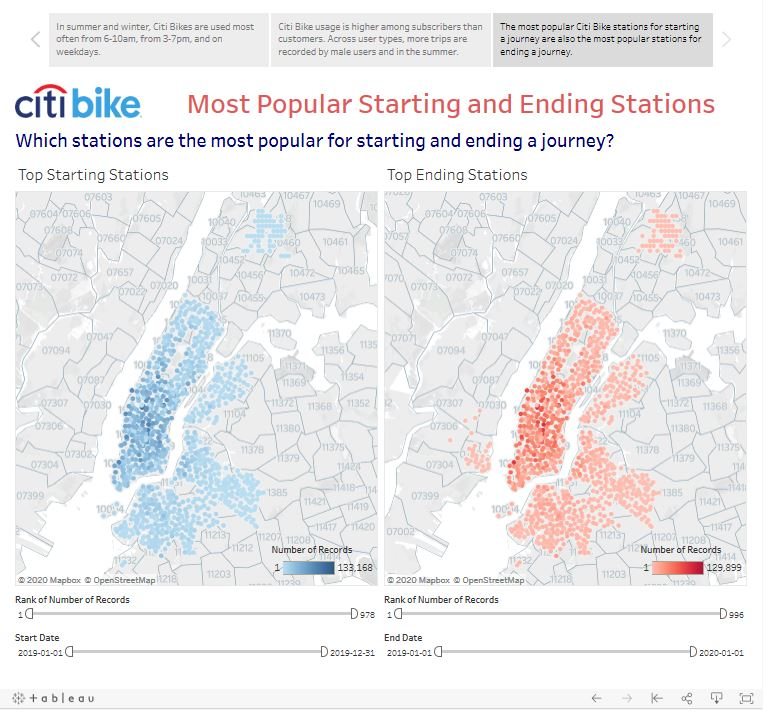

The page's visual inventory and layout, read from the dashboard file:
{"tool":"tableau","page":{"name":"Dashboard3_Stations","canvas":[1000,800],"ordinal":2},"visuals":[{"type":"image","param":"C:/Users/ivyfo/Dropbox/2019/Data Analytics Boot Camp 2019/DA Boot Camp - Homewor","box":[8,8,187,57]},{"type":"text","box":[195,8,797,57]},{"type":"text","box":[8,65,984,43]},{"type":"worksheet","title":"Top Starting Stations","mark":"Automatic","rows":["start station latitude"],"cols":["start station longitude"],"box":[8,108,492,577.5]},{"type":"worksheet","title":"Top Ending Stations","mark":"Automatic","rows":["end station latitude"],"cols":["end station longitude"],"box":[500,108,492,577.5]},{"type":"legend","title":"Top Starting Stations","param":"[federated.0dx83yj05c4yuc10r1rjr0399f2l].[sum:Number of Records:qk]","box":[354,624,140,59]},{"type":"legend","title":"Top Ending Stations","param":"[federated.0dx83yj05c4yuc10r1rjr0399f2l].[sum:Number of Records:qk]","box":[846,624,140,59]},{"type":"filter","title":"Top Starting Stations","param":"[federated.0dx83yj05c4yuc10r1rjr0399f2l].[rank:sum:Number of Records:qk]","box":[8,685.5,492,51.1]},{"type":"filter","title":"Top Ending Stations","param":"[federated.0dx83yj05c4yuc10r1rjr0399f2l].[rank:sum:Number of Records:qk:1]","box":[500,685.5,492,51.1]},{"type":"filter","title":"Top Starting Stations","param":"[federated.0dx83yj05c4yuc10r1rjr0399f2l].[none:starttime (copy)_7627974453055488","box":[8,736.7,492,55.3]},{"type":"filter","title":"Top Ending Stations","param":"[federated.0dx83yj05c4yuc10r1rjr0399f2l].[none:stoptime (copy)_76279744530567169","box":[500,736.7,492,55.3]}]}

Visuals, with their boxes on the page's 1000x800 design canvas (x1, y1, x2, y2). These are canvas units, not pixel positions in the 766x713 screenshot, which may show the page scaled, cropped or inside an application window:
image: (x1=8, y1=8, x2=195, y2=65)
text: (x1=195, y1=8, x2=992, y2=65)
text: (x1=8, y1=65, x2=992, y2=108)
"Top Starting Stations" worksheet: (x1=8, y1=108, x2=500, y2=686)
"Top Ending Stations" worksheet: (x1=500, y1=108, x2=992, y2=686)
"Top Starting Stations" legend: (x1=354, y1=624, x2=494, y2=683)
"Top Ending Stations" legend: (x1=846, y1=624, x2=986, y2=683)
"Top Starting Stations" filter: (x1=8, y1=686, x2=500, y2=737)
"Top Ending Stations" filter: (x1=500, y1=686, x2=992, y2=737)
"Top Starting Stations" filter: (x1=8, y1=737, x2=500, y2=792)
"Top Ending Stations" filter: (x1=500, y1=737, x2=992, y2=792)
